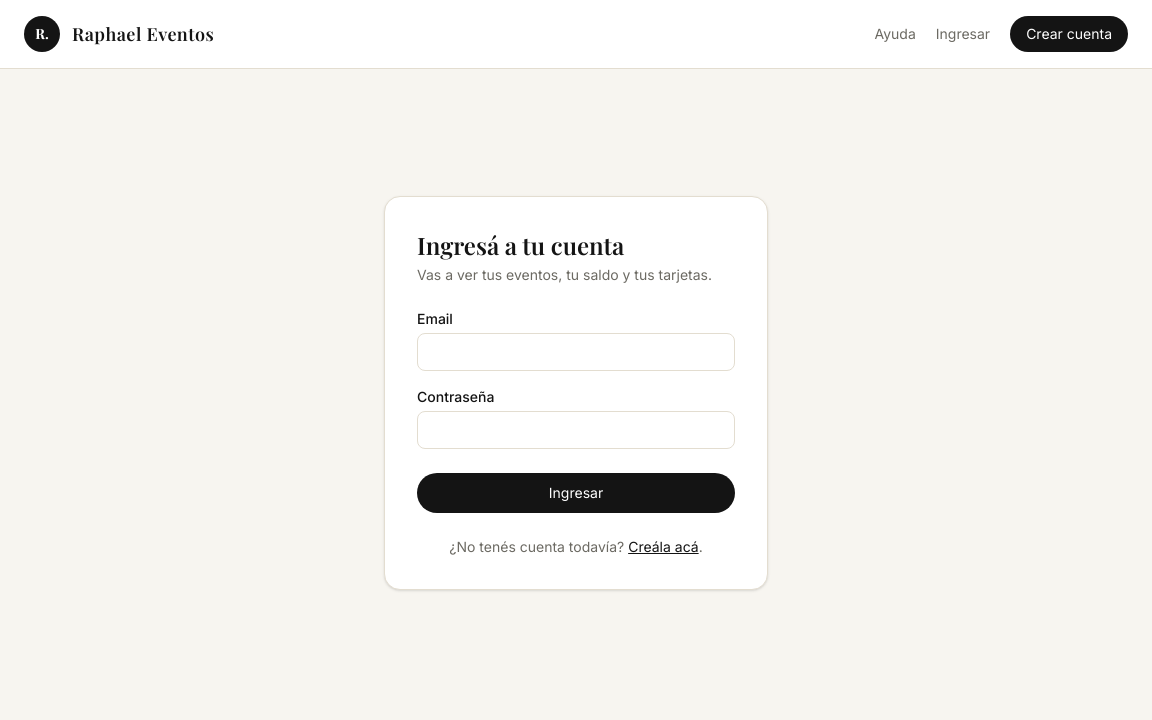
Test: LoginPage › con credenciales incorrectas muestra el mensaje de error del servidor
In the field labelled "Email": (576, 352) [417, 332, 735, 370], type "cami@example.com"
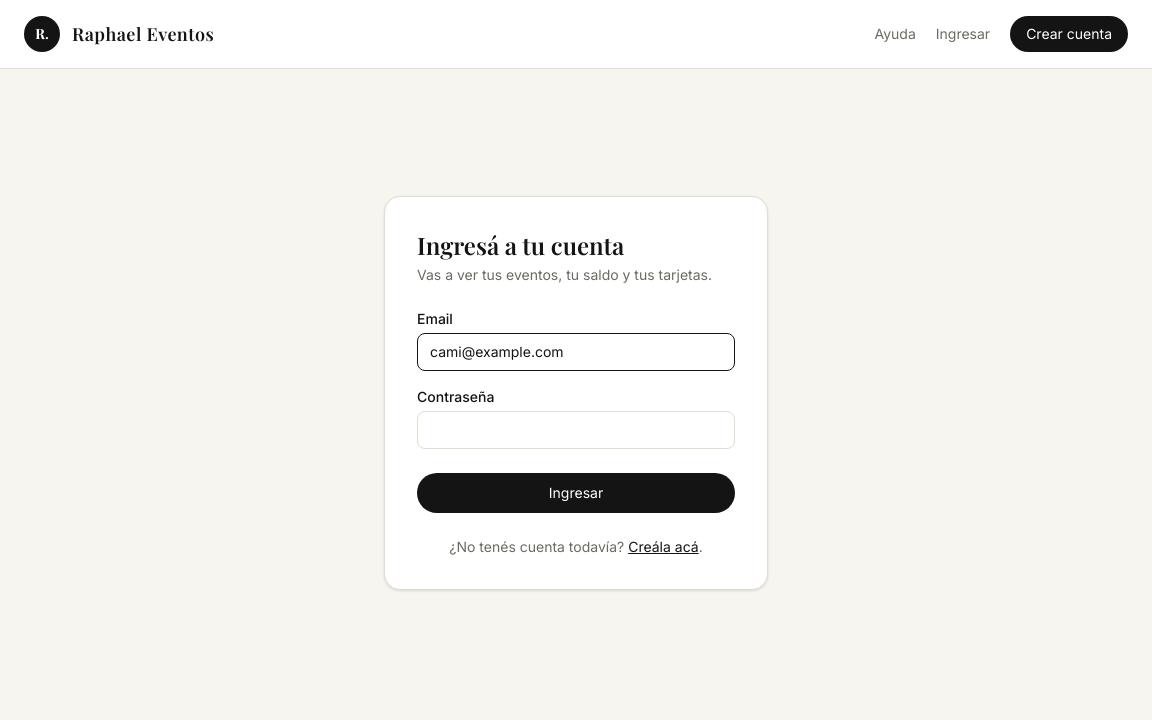
In the password field labelled "Contraseña": (576, 430) [417, 410, 735, 448], type "incorrecta"
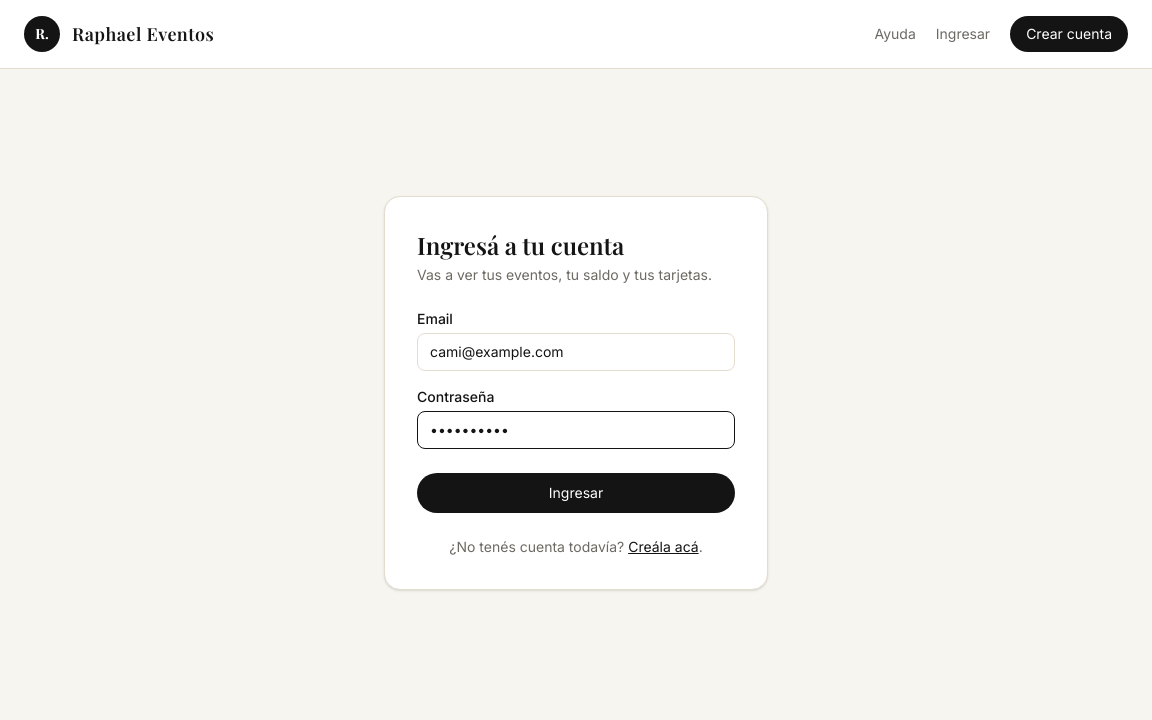
Click the button "Ingresar": click(576, 492) [417, 472, 735, 512]
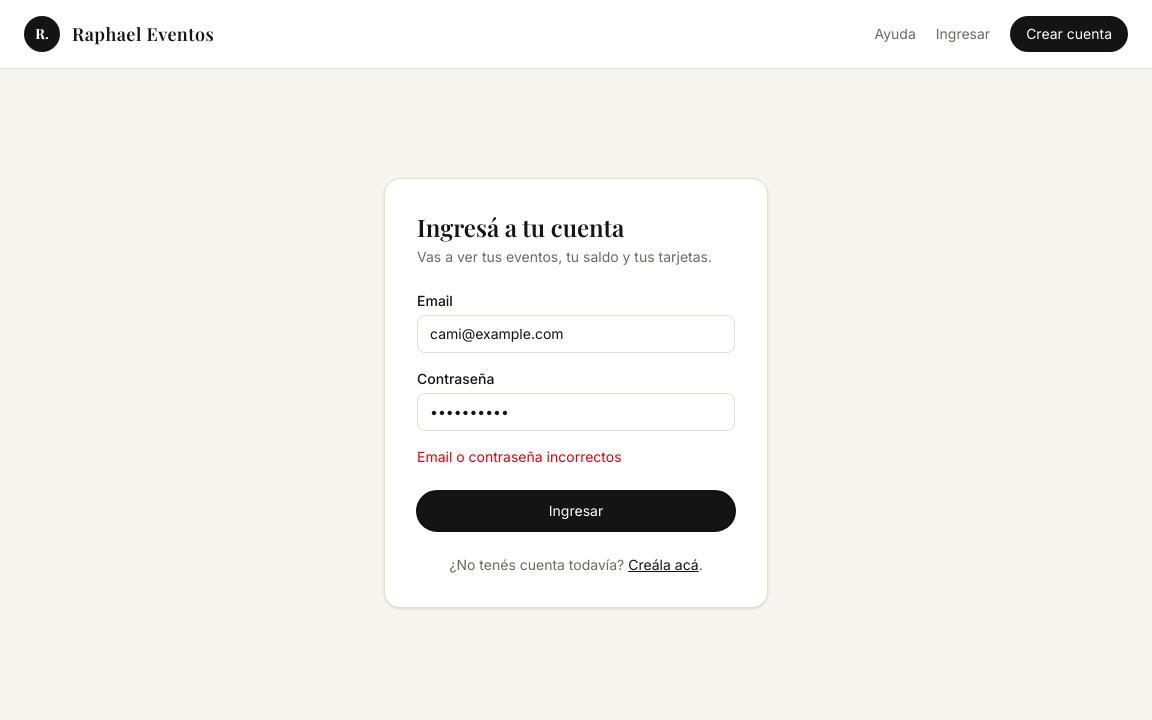
expect the text "Email o contraseña incorrectos" is shown: met, box [417, 448, 622, 464]
